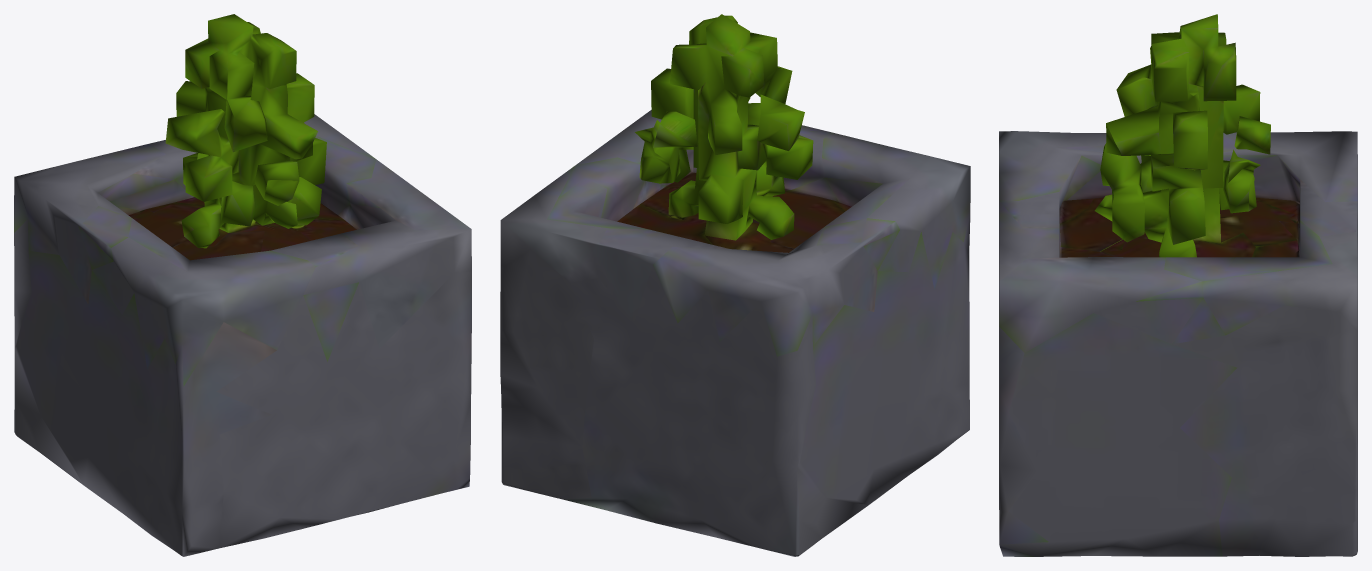
The model's file is planter.glb.
3 renders of one model, left to right at view 1: azimuth 30°, elevation 25°; view 2: azimuth 150°, elevation 25°; view 3: azimuth 270°, elevation 25°, orthographic. The views are drawn at different scales.
Parts seen in each view (by area): view 1: tripo_node_b79d0fd7-346e-4bbd-87f1-c2b211357de6; view 2: tripo_node_b79d0fd7-346e-4bbd-87f1-c2b211357de6; view 3: tripo_node_b79d0fd7-346e-4bbd-87f1-c2b211357de6.
Part boxes in pixels (x1,y1,x2,y2): tripo_node_b79d0fd7-346e-4bbd-87f1-c2b211357de6: (14, 14, 471, 556); tripo_node_b79d0fd7-346e-4bbd-87f1-c2b211357de6: (500, 14, 970, 556); tripo_node_b79d0fd7-346e-4bbd-87f1-c2b211357de6: (999, 14, 1357, 556).
Size of the model in its own units: 0.7029 by 1 by 0.7082.
1 material, 1 textured.
